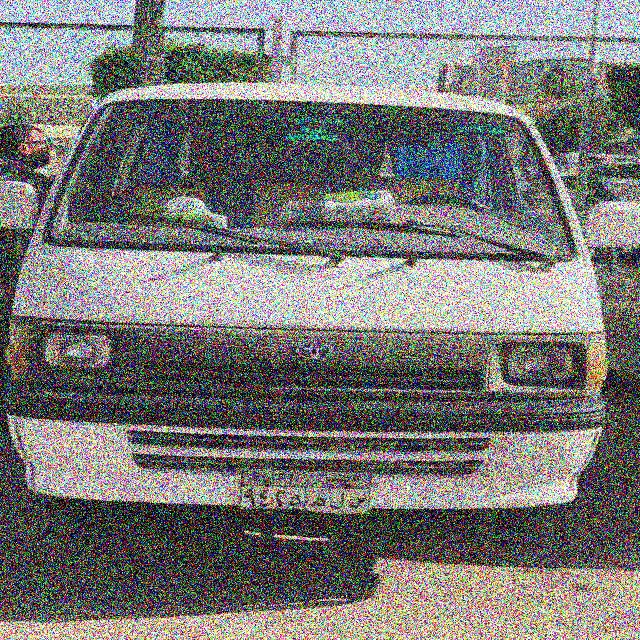License Plate: (235, 466, 375, 517)
